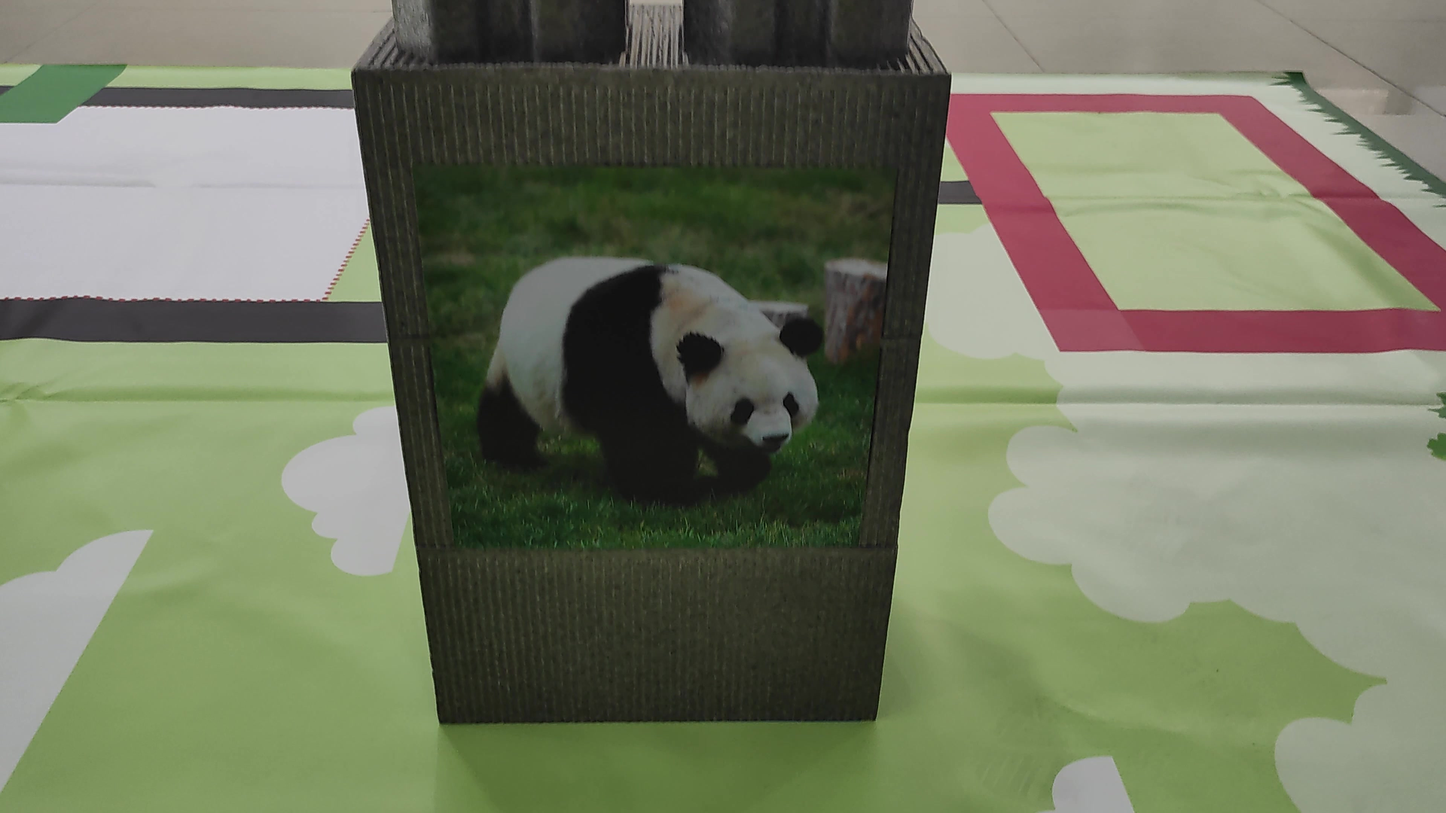panda: (462, 232, 849, 525)
